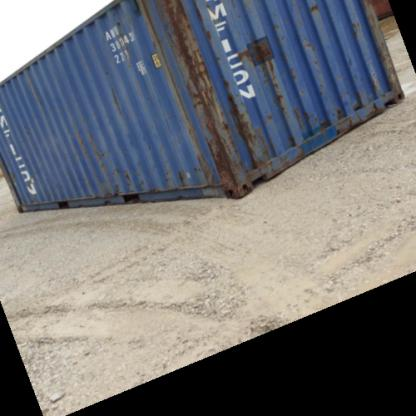Damage: (193, 42, 285, 197), (149, 11, 195, 127), (84, 139, 140, 199), (288, 85, 320, 143), (296, 1, 324, 56), (158, 159, 195, 191), (330, 96, 362, 127), (108, 75, 124, 125), (107, 11, 129, 41), (366, 86, 384, 116), (347, 14, 365, 44)
